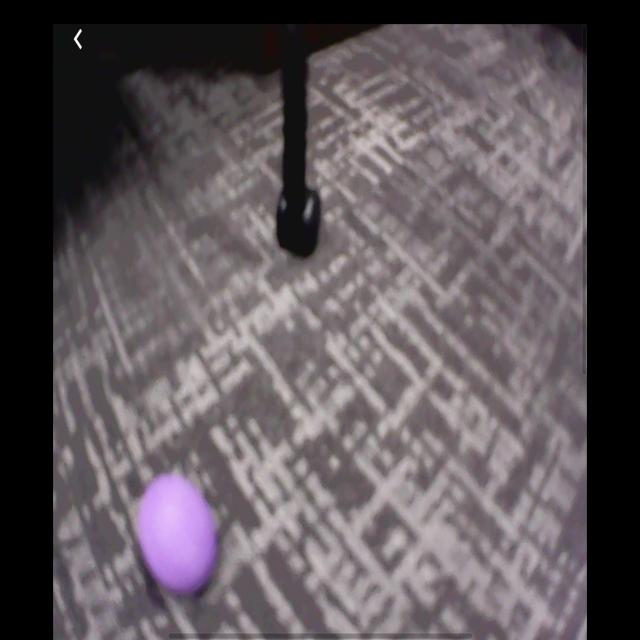ball: (138, 477, 217, 598)
